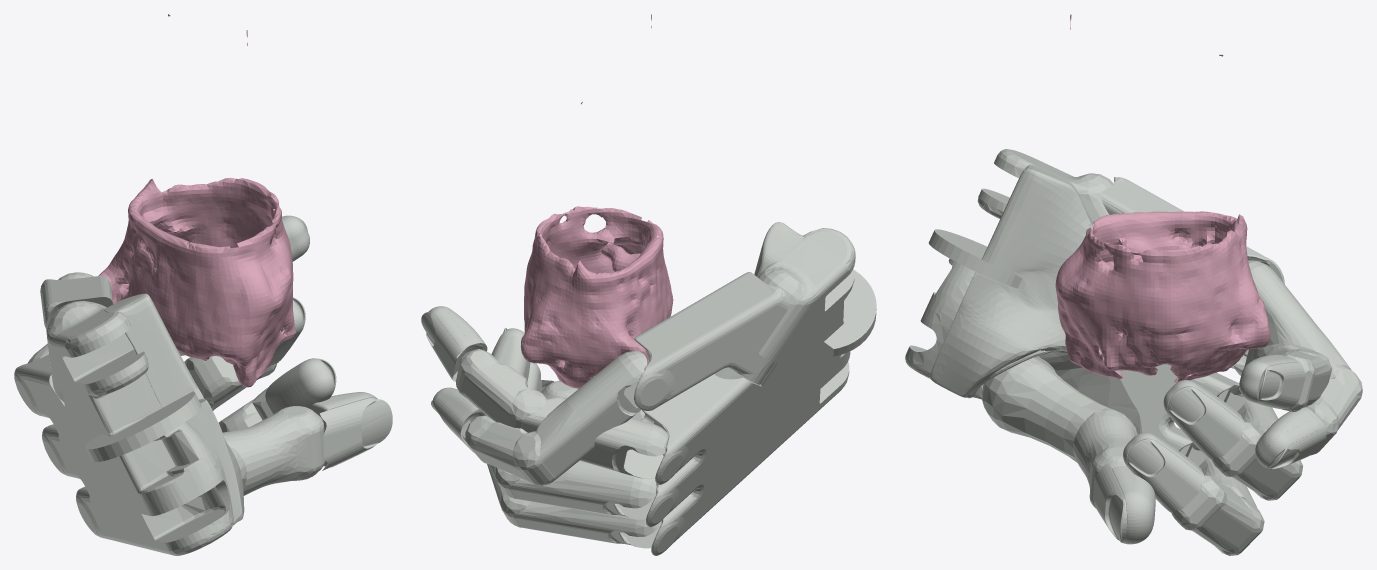
3 views of the same model, side by side, from view 1: azimuth 30°, elevation 25°; view 2: azimuth 150°, elevation 25°; view 3: azimuth 270°, elevation 25° (orthographic). The views are drawn at different scales.
Parts seen in each view (by area): view 1: hand, world; view 2: hand, world; view 3: hand, world.
Boxes of the visible parts, x1,y1,x2,y2 form: hand: (14,215,392,555); world: (98,14,296,387); hand: (421,222,876,555); world: (520,14,673,388); hand: (905,149,1362,555); world: (1055,14,1270,382).
Bounding box in the file's own units: 0.1367 × 0.1884 × 0.1506.
